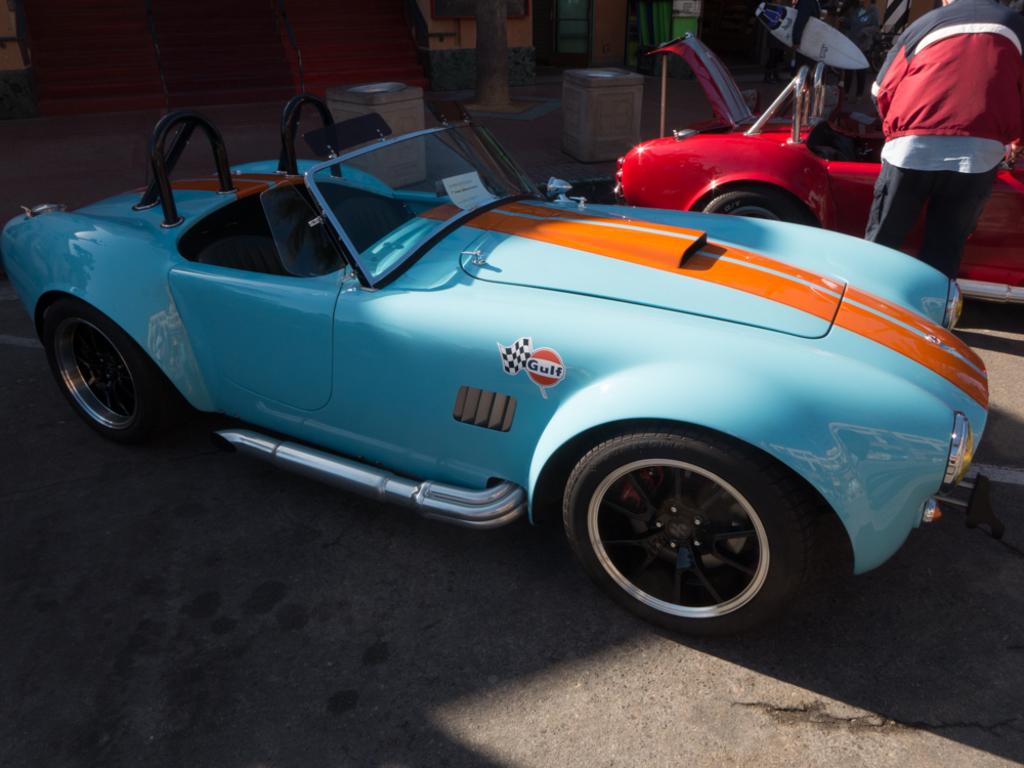Car: (0, 92, 1005, 638), (613, 31, 1023, 304)
